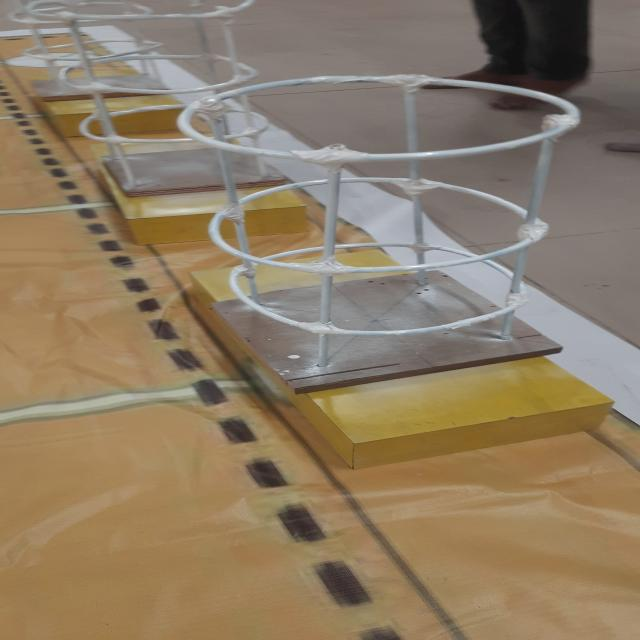silo: (150, 59, 612, 391), (0, 0, 311, 192)
